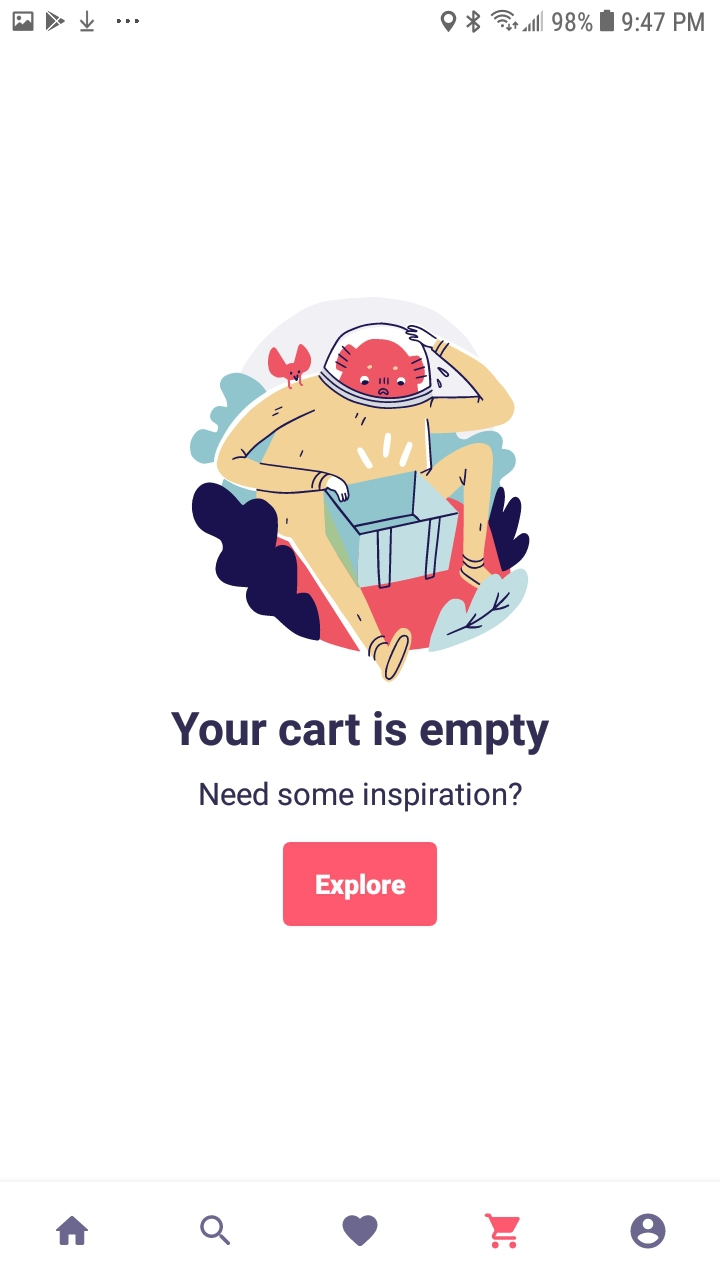Icon: (485, 1212, 521, 1249), (630, 1212, 666, 1249), (343, 1214, 379, 1246), (57, 1216, 90, 1246), (201, 1215, 232, 1246)
Image: (190, 296, 531, 684)
Text: (171, 710, 550, 756), (200, 782, 523, 813)
TextButton: (283, 842, 438, 927)
UpperTaskBar: (1, 1, 720, 35)
